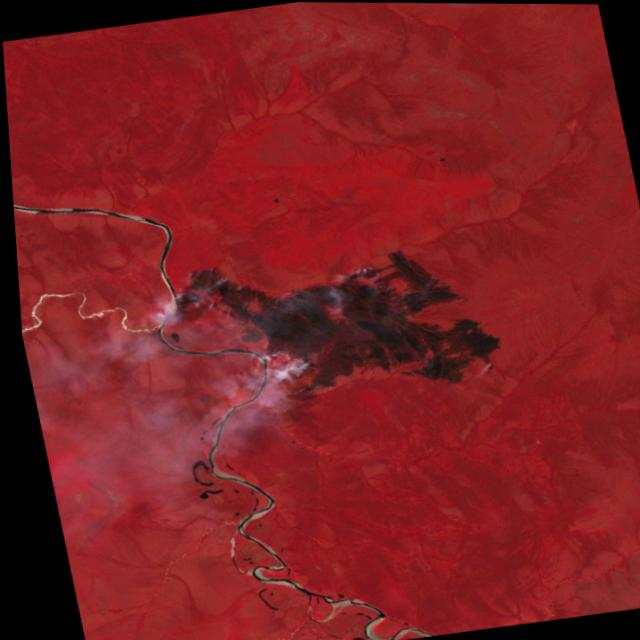fire: (151, 226, 403, 412)
